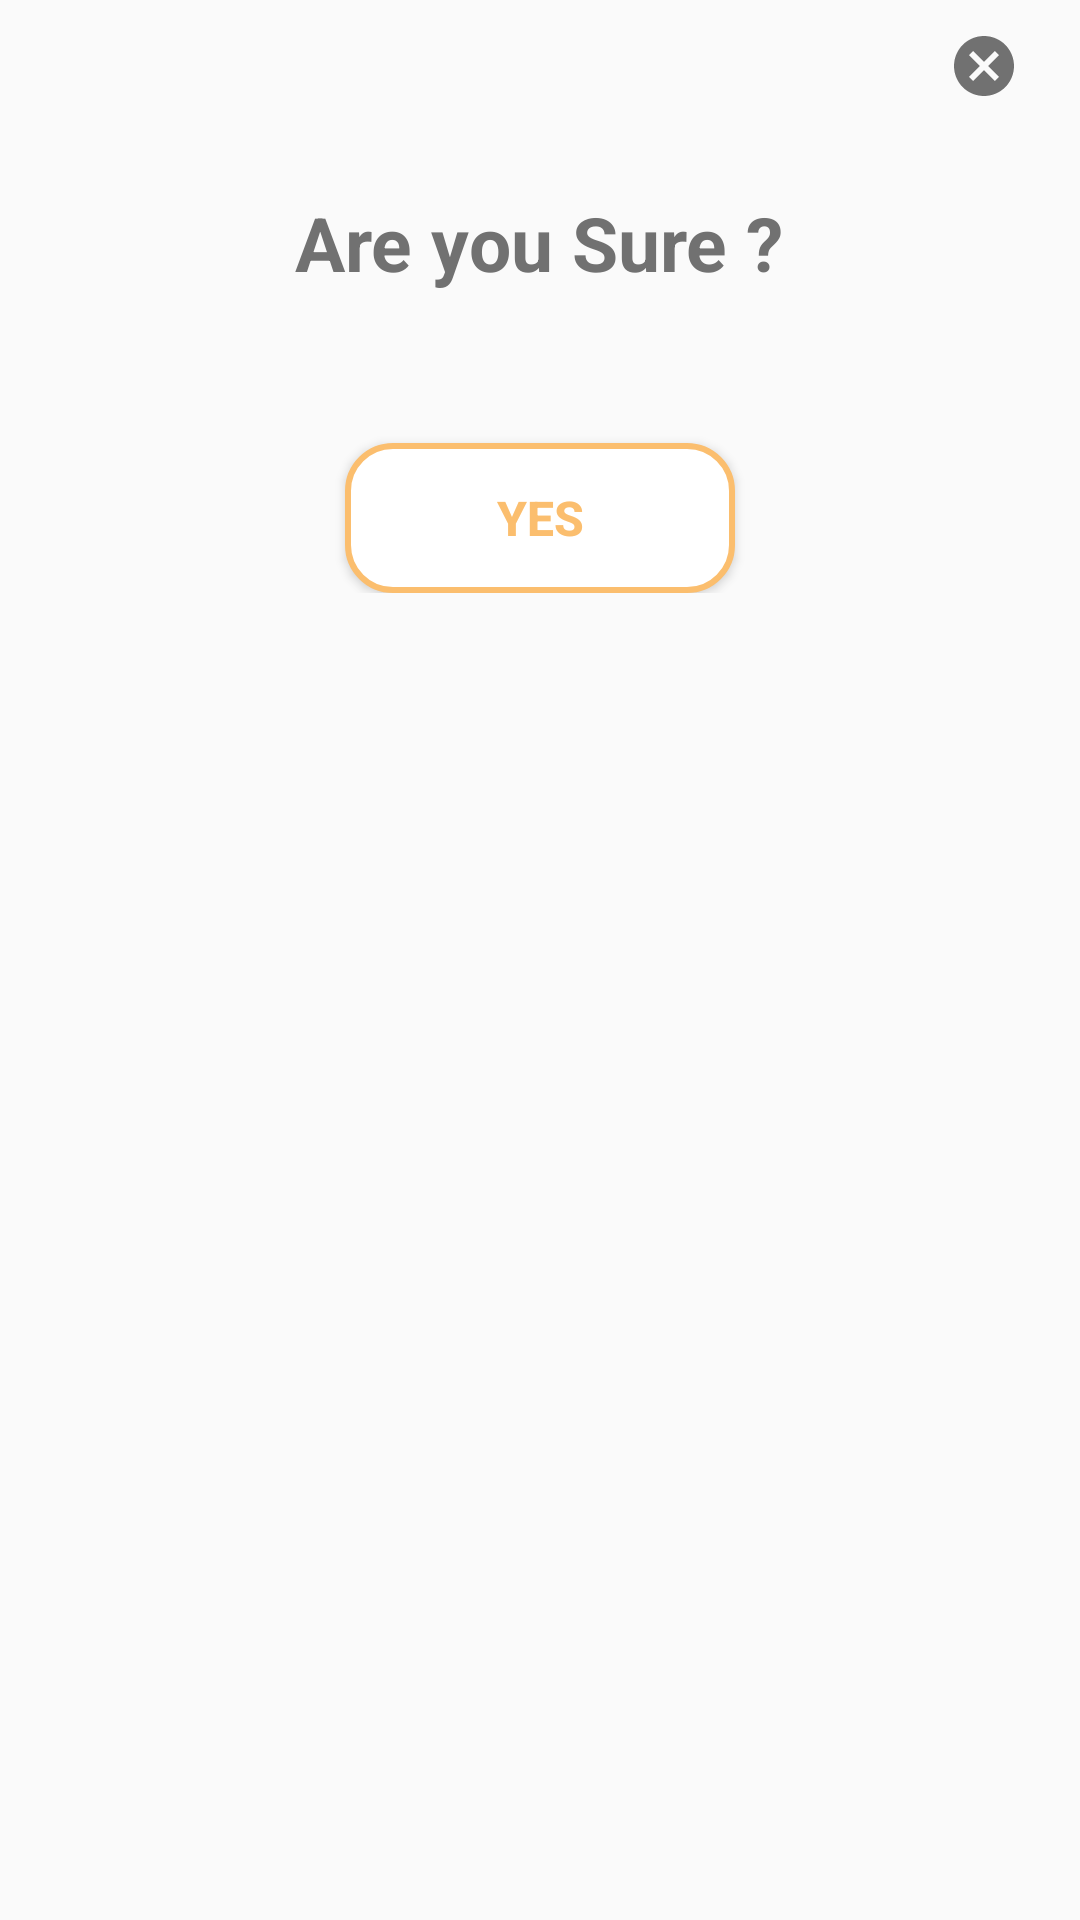

Screen size 1080 x 1920. Icon name, then its center in pixels as [x,y]:
cancel: [984,66]
